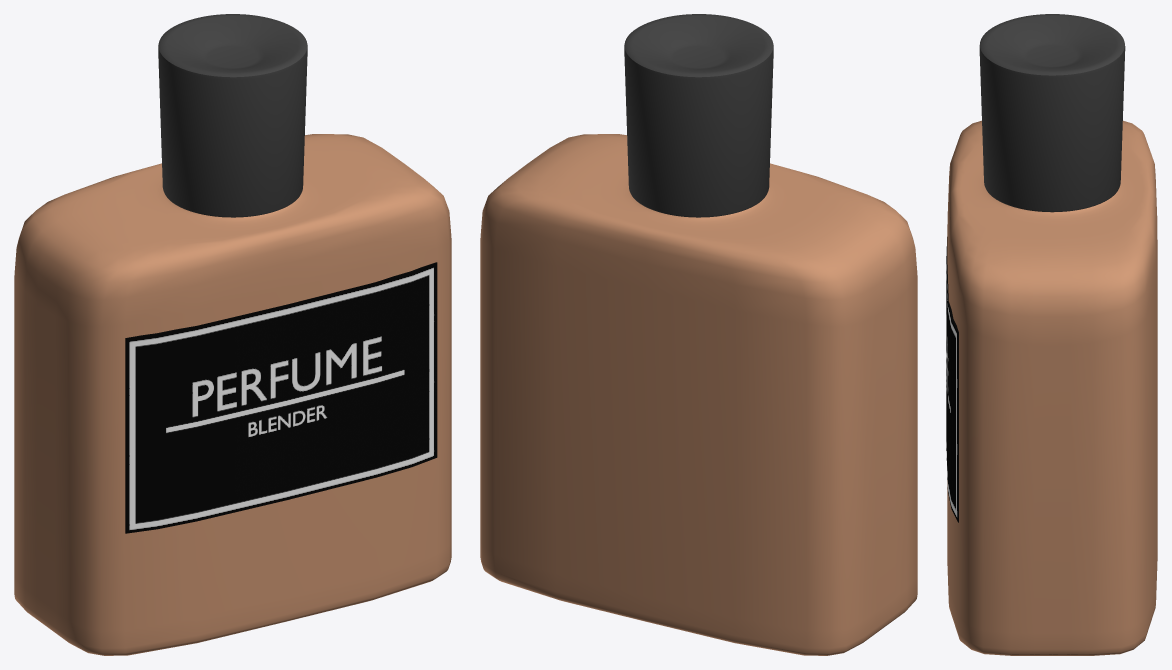
The model's file is perfume.glb.
3 views of the same model, side by side, from view 1: azimuth 30°, elevation 25°; view 2: azimuth 150°, elevation 25°; view 3: azimuth 270°, elevation 25° (orthographic). The views are drawn at different scales.
Visible parts, largest first — view 1: bottle.002_0, bottle.001_1; view 2: bottle.002_0; view 3: bottle.002_0, bottle.001_1.
Boxes of the visible parts, left/top/right/bottom form: bottle.002_0: left=14, top=14, right=451, bottom=655; bottle.001_1: left=125, top=262, right=437, bottom=533; bottle.002_0: left=480, top=14, right=917, bottom=655; bottle.002_0: left=947, top=14, right=1157, bottom=655; bottle.001_1: left=946, top=237, right=958, bottom=522.
Size of the model in its own units: 1.35 by 1.86 by 0.6764.
Materials: 3 (1 with a texture image).
